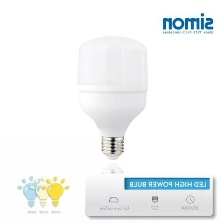light_bulb: (72, 27, 156, 163)
